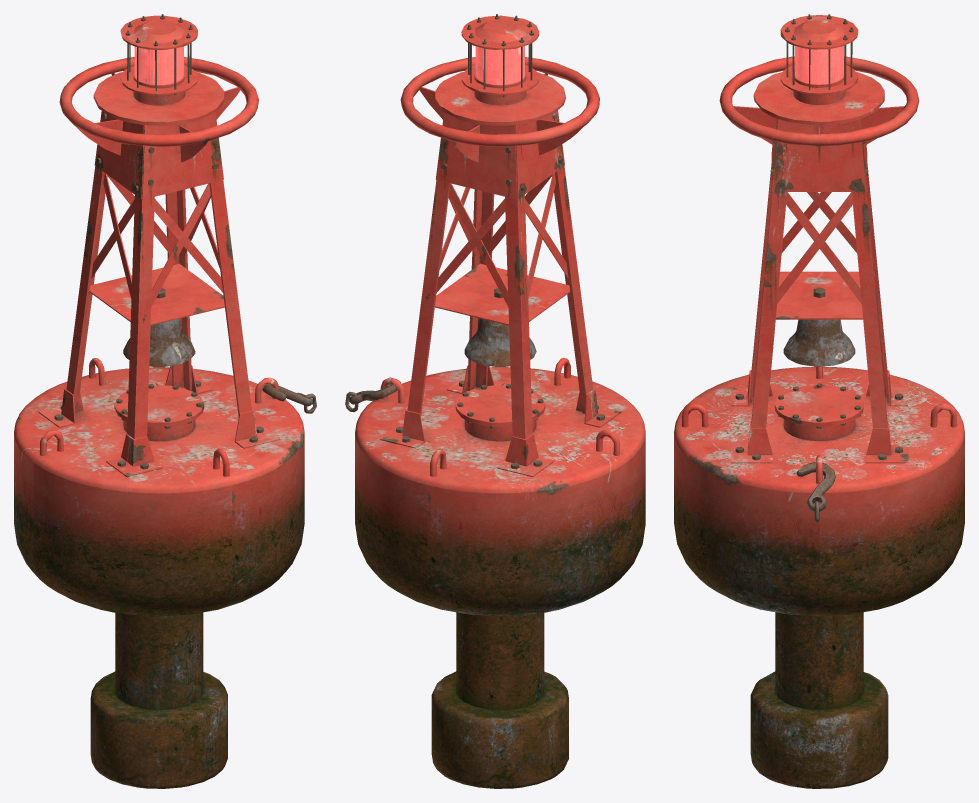
File: ocean_buoy_1k.gltf
3 renders of one model, left to right at view 1: azimuth 30°, elevation 25°; view 2: azimuth 150°, elevation 25°; view 3: azimuth 270°, elevation 25°, orthographic.
Visible parts, largest first — view 1: ocean_buoy; view 2: ocean_buoy; view 3: ocean_buoy.
Boxes of the visible parts, bbox=[...] form: ocean_buoy: bbox=[14, 14, 316, 788]; ocean_buoy: bbox=[345, 14, 645, 788]; ocean_buoy: bbox=[674, 14, 964, 788].
Size of the model in its own units: 1.07 by 2.66 by 0.9521.
1 material, 1 textured.
